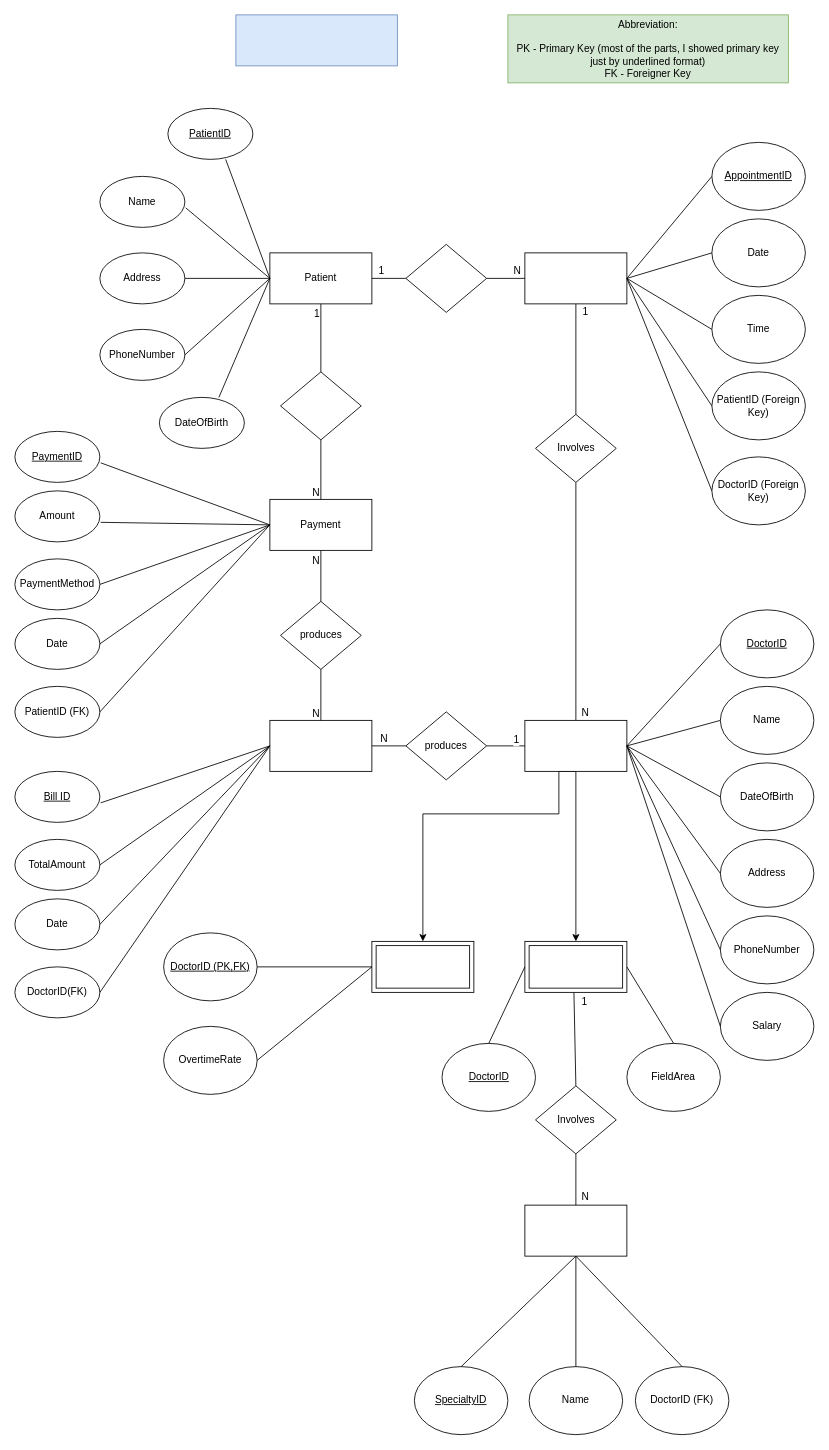
Some shapes in this 829 by 1450 pixel diagram are drawn without their labels. The centre of each missing label's shape, as x and y in pixels:
"Appointment" goes at point (575, 278).
"Bill" goes at point (320, 745).
"Doctor" goes at point (575, 745).
"Ehsan Goodarzi - Assignment: (Database Design)" goes at point (316, 40).
"Has" goes at point (446, 278).
"makes" goes at point (320, 405).
"Medical Doc" goes at point (422, 966).
"Specialist Doc" goes at point (575, 966).
"Specialty" goes at point (575, 1230).
